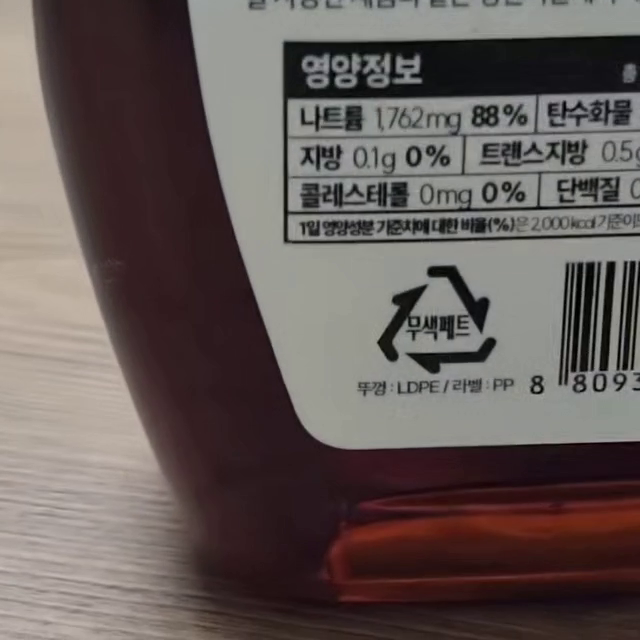ColorlessPet: (377, 264, 497, 375)
